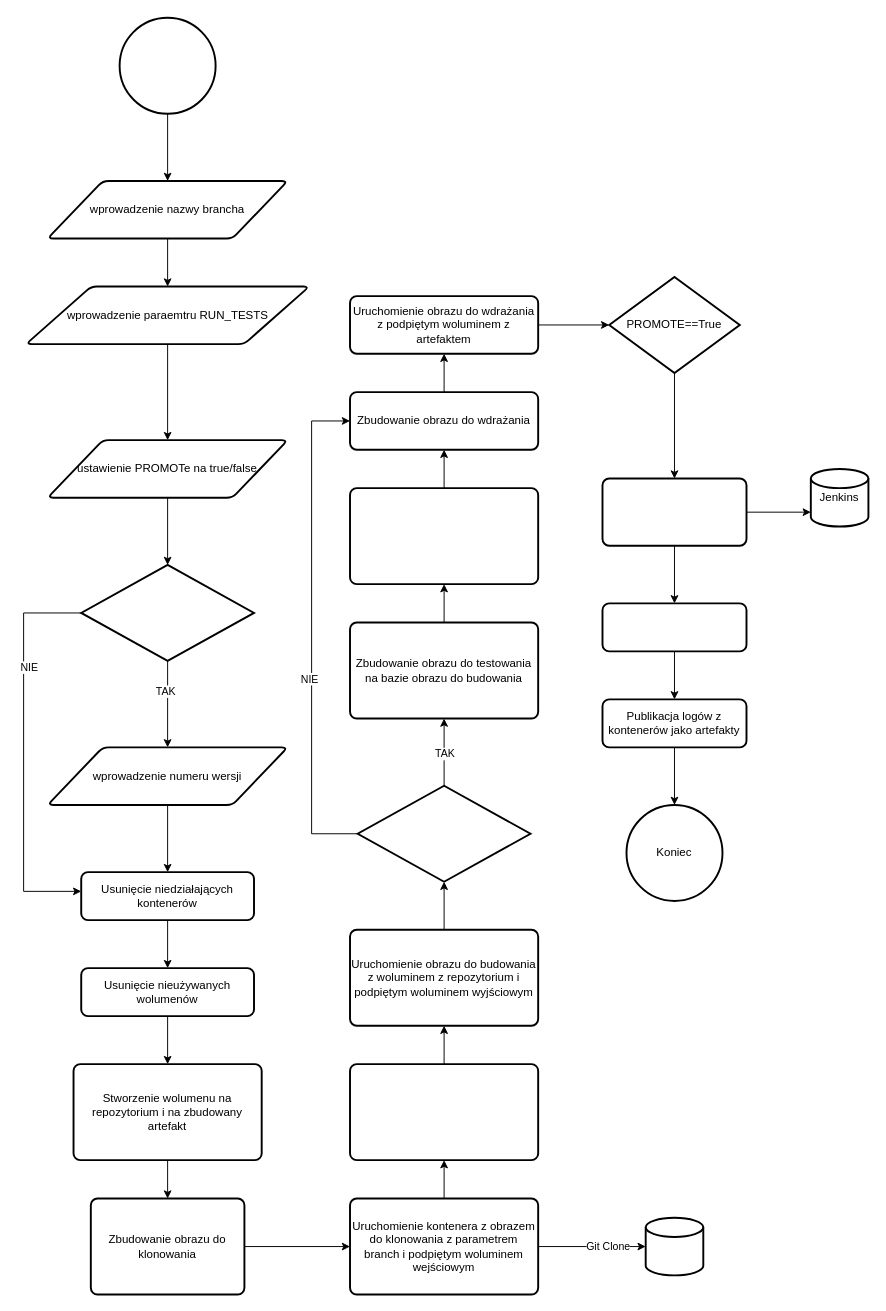
This 886x1311 diagram has some shape labels left out. The shapes that lost their labels are listed below. From the top down, each one's box as (x1, y1, x2, y2) in pixels, then its label:
(118, 16, 216, 114): Start Pipeline'a
(601, 477, 747, 546): Publikacja artefaktu na Jenkinsie
(349, 487, 539, 585): Uruchomienie obrazu do testowania z podpiętym woluminem z repozytorium
(80, 564, 254, 661): PROMOTE == True
(601, 602, 747, 652): Zebranie logów z kontenerów
(356, 784, 531, 882): RUN_TESTS == True
(349, 1063, 539, 1161): Zbudowanie obrazu do budowania
(644, 1216, 704, 1276): GtiHub
